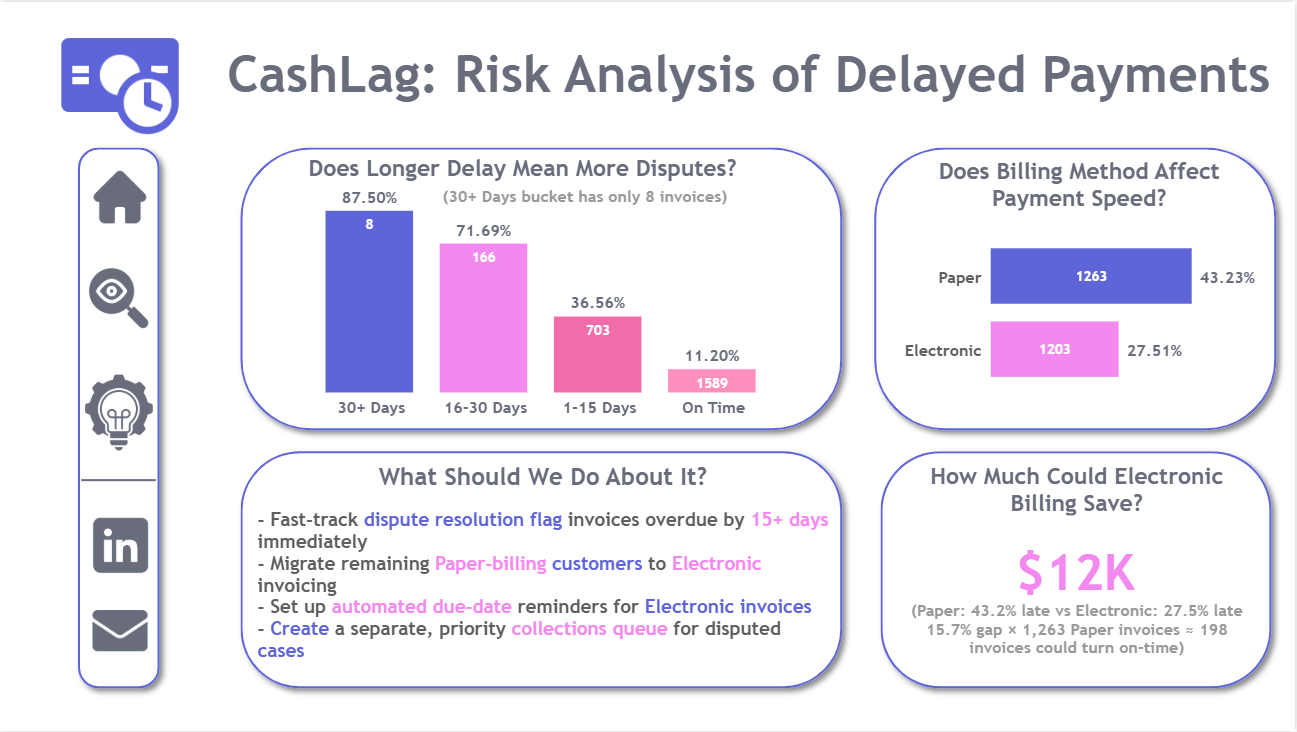

Layout of this report page (visuals, bound fields, positions):
{"tool":"powerbi","page":{"name":"Root Cause & Recommendation","canvas":[1280,720],"ordinal":2},"visuals":[{"type":"shape","box":[858.9,432.9,406.8,254.8],"z":0},{"type":"shape","box":[67.1,132.9,101.4,554.8],"z":1000},{"type":"shape","box":[227.4,132.9,615.1,300],"z":2000},{"type":"shape","box":[227.4,432.9,615.1,254.8],"z":3000},{"type":"shape","box":[853.4,132.9,417.8,300],"z":4000},{"type":"columnChart","fields":{"Category":["Accounts_receivables_data(in).agining bucket"],"Y":["Accounts_receivables_data(in).pct_disputed"],"Series":["Accounts_receivables_data(in).agining bucket"]},"box":[271.2,165.8,528.8,253.4],"z":5000},{"type":"textbox","box":[249.3,494.5,575.3,171.2],"z":6000},{"type":"cardVisual","fields":{"Data":["Accounts_receivables_data(in).Preventable Amount"]},"box":[876.2,441.7,371.2,239.7],"z":7000},{"type":"textbox","title":"Does Longer Delay Mean More Disputes?","box":[279.5,150.7,474,43.8],"z":8000},{"type":"barChart","fields":{"Y":["Accounts_receivables_data(in).pct_late"],"Category":["Accounts_receivables_data(in).PaperlessBill"],"Series":["Accounts_receivables_data(in).PaperlessBill"]},"box":[887.7,165.8,357.5,278.1],"z":9000},{"type":"textbox","title":"Does Billing Method Affect Payment Speed?","box":[893.2,153.4,346.6,54.8],"z":10000},{"type":"textbox","title":"How Much Could Electronic Billing Save?","box":[890.4,454.8,346.6,54.8],"z":11000},{"type":"textbox","title":"What Should We Do About It?","box":[363,454.8,346.6,38.4],"z":12000},{"type":"textbox","title":"CashLag: Risk Analysis of Delayed Payments","box":[213.7,42.5,1052.1,72.6],"z":13000},{"type":"image","box":[19.2,24.7,197.3,116.4],"z":14000},{"type":"image","box":[87.7,167.1,61.6,52.1],"z":15000},{"type":"image","box":[86.3,263,61.6,58.9],"z":16000},{"type":"image","box":[79.5,354.8,76.7,102.7],"z":17000},{"type":"shape","box":[80.8,441.1,74,63],"z":18000},{"type":"image","box":[91.8,589,54.8,64.4],"z":19000},{"type":"image","box":[87.7,505.5,63,63],"z":20000},{"type":"textbox","title":"(30+ Days bucket has only 8 invoices)","box":[432.1,182.1,296.4,27.4],"z":20001},{"type":"textbox","title":"(Paper: 43.2% late vs Electronic: 27.5% late 15.7% gap × 1,263 Paper invoices ≈ 198 invoices could turn on-time)","box":[878.6,591.7,369,61.9],"z":20002}]}

Visuals, with their boxes in screenshot pixels (x1, y1, x2, y2), scaled from the page's 1280x720 canvas onto the 1297x732 screenshot:
shape: pyautogui.locateOnScreen(870, 440, 1283, 699)
shape: pyautogui.locateOnScreen(68, 135, 171, 699)
shape: pyautogui.locateOnScreen(230, 135, 854, 440)
shape: pyautogui.locateOnScreen(230, 440, 854, 699)
shape: pyautogui.locateOnScreen(865, 135, 1288, 440)
columnChart - Accounts_receivables_data(in).agining bucket x Accounts_receivables_data(in).pct_disputed: pyautogui.locateOnScreen(275, 169, 811, 426)
textbox: pyautogui.locateOnScreen(253, 503, 836, 677)
cardVisual - Accounts_receivables_data(in).Preventable Amount: pyautogui.locateOnScreen(888, 449, 1264, 693)
"Does Longer Delay Mean More Disputes?" textbox: pyautogui.locateOnScreen(283, 153, 764, 198)
barChart - Accounts_receivables_data(in).pct_late x Accounts_receivables_data(in).PaperlessBill: pyautogui.locateOnScreen(899, 169, 1262, 451)
"Does Billing Method Affect Payment Speed?" textbox: pyautogui.locateOnScreen(905, 156, 1256, 212)
"How Much Could Electronic Billing Save?" textbox: pyautogui.locateOnScreen(902, 462, 1253, 518)
"What Should We Do About It?" textbox: pyautogui.locateOnScreen(368, 462, 719, 501)
"CashLag: Risk Analysis of Delayed Payments" textbox: pyautogui.locateOnScreen(217, 43, 1283, 117)
image: pyautogui.locateOnScreen(19, 25, 219, 143)
image: pyautogui.locateOnScreen(89, 170, 151, 223)
image: pyautogui.locateOnScreen(87, 267, 150, 327)
image: pyautogui.locateOnScreen(81, 361, 158, 465)
shape: pyautogui.locateOnScreen(82, 448, 157, 513)
image: pyautogui.locateOnScreen(93, 599, 149, 664)
image: pyautogui.locateOnScreen(89, 514, 153, 578)
"(30+ Days bucket has only 8 invoices)" textbox: pyautogui.locateOnScreen(438, 185, 738, 213)
"(Paper: 43.2% late vs Electronic: 27.5% late 15.7% gap × 1,263 Paper invoices ≈ 198 invoices could turn on-time)" textbox: pyautogui.locateOnScreen(890, 602, 1264, 664)
